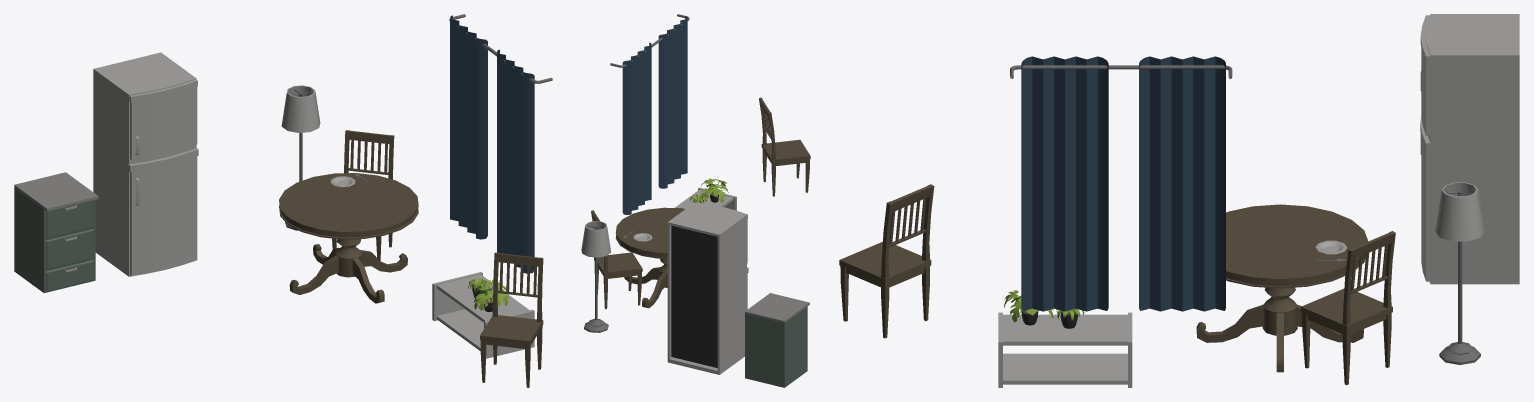
File: interior.fbx
3 renders of one model, left to right at view 1: azimuth 30°, elevation 25°; view 2: azimuth 150°, elevation 25°; view 3: azimuth 270°, elevation 25°, orthographic. The views are drawn at different scales.
Visible parts, largest first — view 1: Kitchen_Fridge, Curtains_Double, Table_RoundSmall2, Kitchen_3Drawers, Chair_5, Shelf_Small3, Chair_4, Light_Stand1, Houseplant_7; view 2: Kitchen_Fridge, Curtains_Double, Kitchen_3Drawers, Table_RoundSmall2, Chair_5, Chair_4, Light_Stand1, Shelf_Small3, Houseplant_7; view 3: Curtains_Double, Kitchen_Fridge, Table_RoundSmall2, Shelf_Small3, Chair_5, Chair_4, Light_Stand1, Houseplant_7.
Boxes of the visible parts, <box> form: Kitchen_Fridge: <box>93,52,198,276</box>; Curtains_Double: <box>449,14,552,273</box>; Table_RoundSmall2: <box>279,173,418,303</box>; Kitchen_3Drawers: <box>14,172,98,293</box>; Chair_5: <box>480,252,543,387</box>; Shelf_Small3: <box>432,272,534,358</box>; Chair_4: <box>332,130,394,261</box>; Light_Stand1: <box>281,85,320,230</box>; Houseplant_7: <box>473,280,508,311</box>; Kitchen_Fridge: <box>667,202,748,374</box>; Curtains_Double: <box>610,14,689,214</box>; Kitchen_3Drawers: <box>745,293,809,387</box>; Table_RoundSmall2: <box>615,207,684,308</box>; Chair_5: <box>759,97,810,196</box>; Chair_4: <box>591,210,642,309</box>; Light_Stand1: <box>581,221,611,332</box>; Shelf_Small3: <box>675,187,736,210</box>; Houseplant_7: <box>700,178,728,202</box>; Curtains_Double: <box>1010,56,1232,311</box>; Kitchen_Fridge: <box>1420,14,1519,284</box>; Table_RoundSmall2: <box>1196,204,1368,372</box>; Shelf_Small3: <box>998,312,1132,387</box>; Chair_5: <box>839,184,934,338</box>; Chair_4: <box>1301,231,1395,385</box>; Light_Stand1: <box>1435,182,1484,364</box>; Houseplant_7: <box>1004,290,1053,325</box>.
Size of the model in its own units: 105 by 78.46 by 145.
